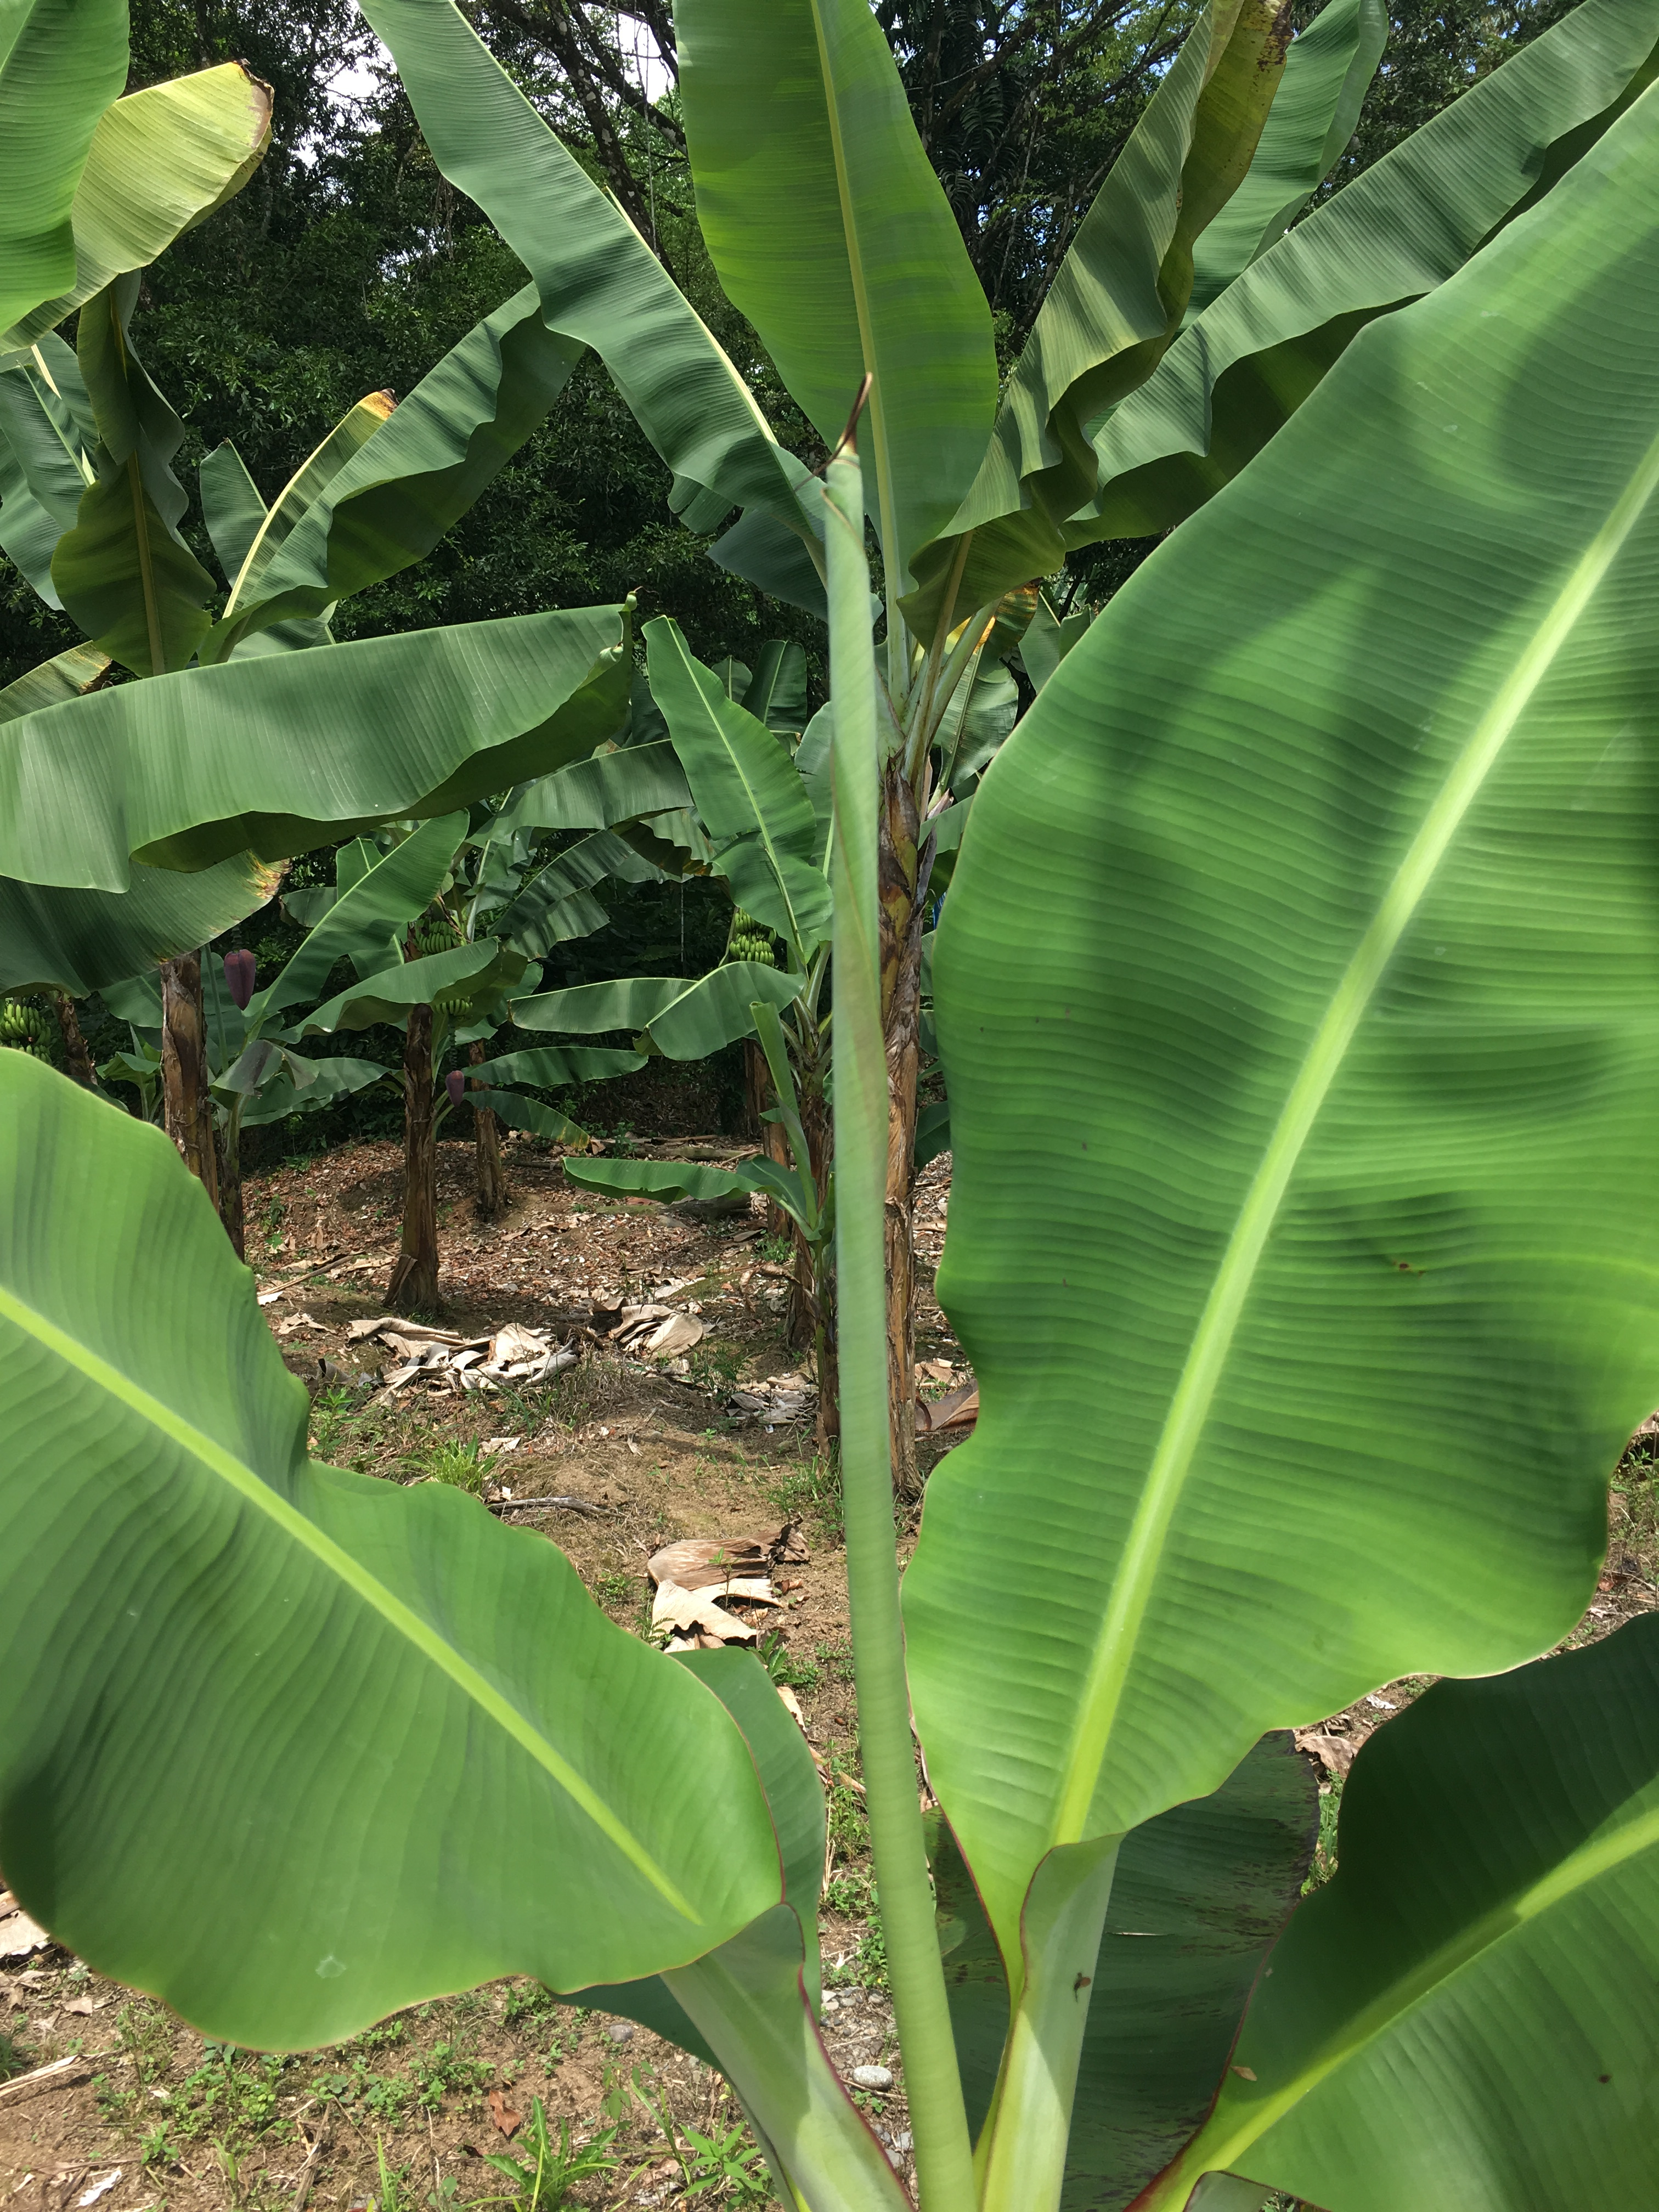candleleafs: (824, 421, 951, 2078)
